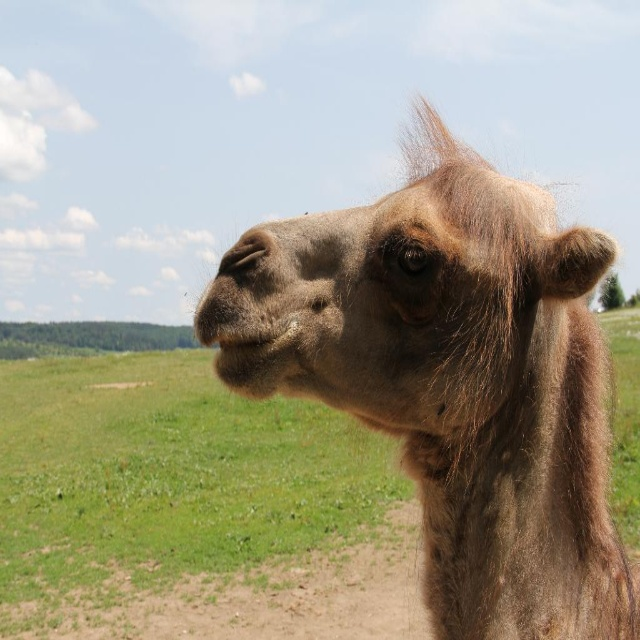Camel: (183, 81, 640, 640)
